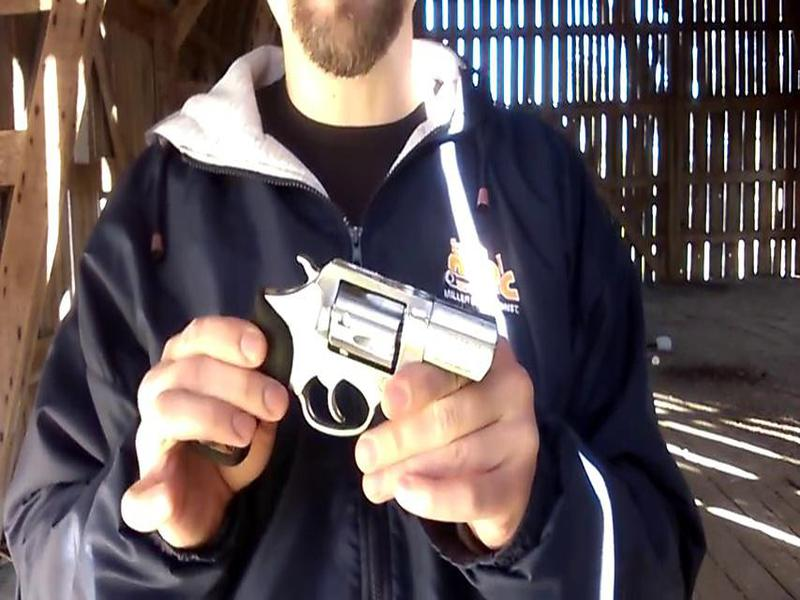Revolver: (190, 231, 524, 490)
